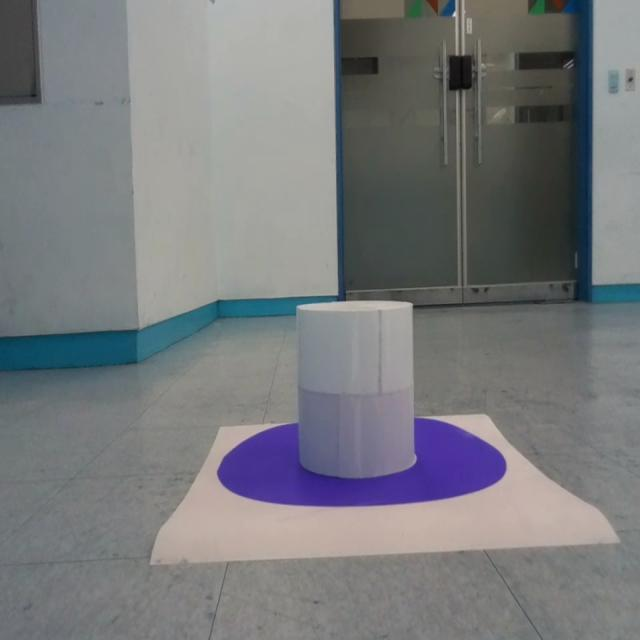cylinder: (296, 300, 416, 480)
